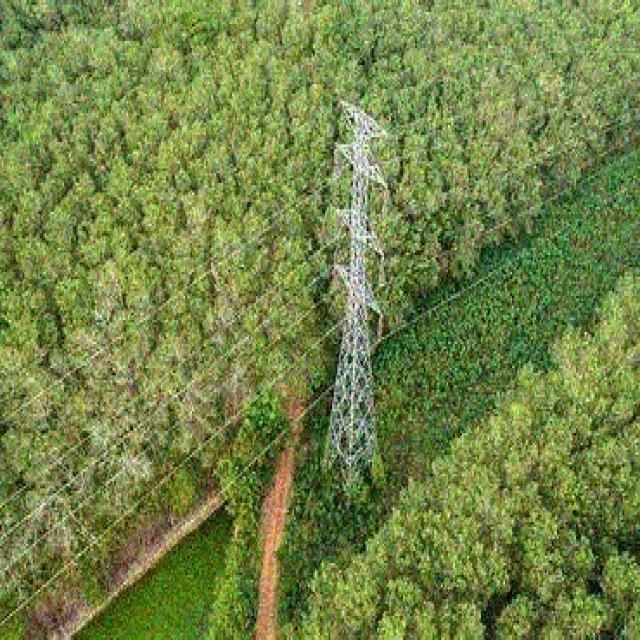utility poles: (321, 75, 399, 500)
